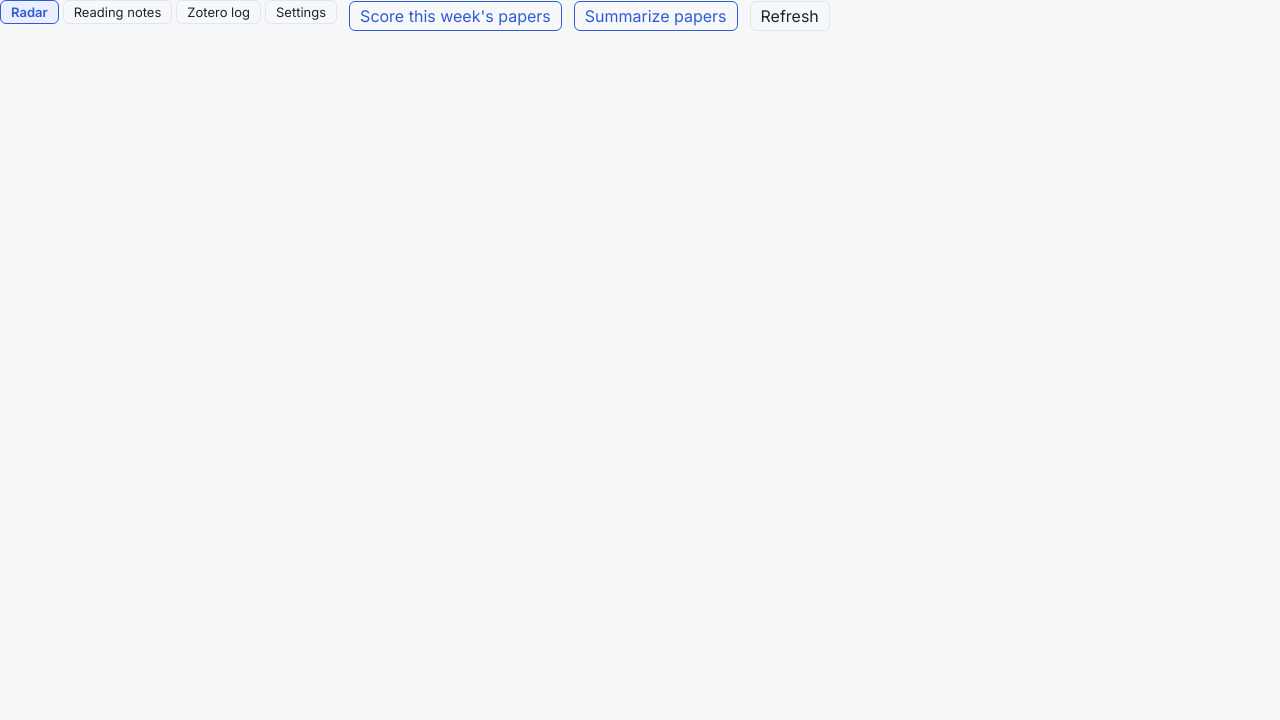
it: Literature settings › adds a keyword group and saves the radar config
This screenshot has width=1280, height=720.
Later steps or results of the test are not shown.
Click the tab "Settings" at (301, 12), box [265,0,337,24]
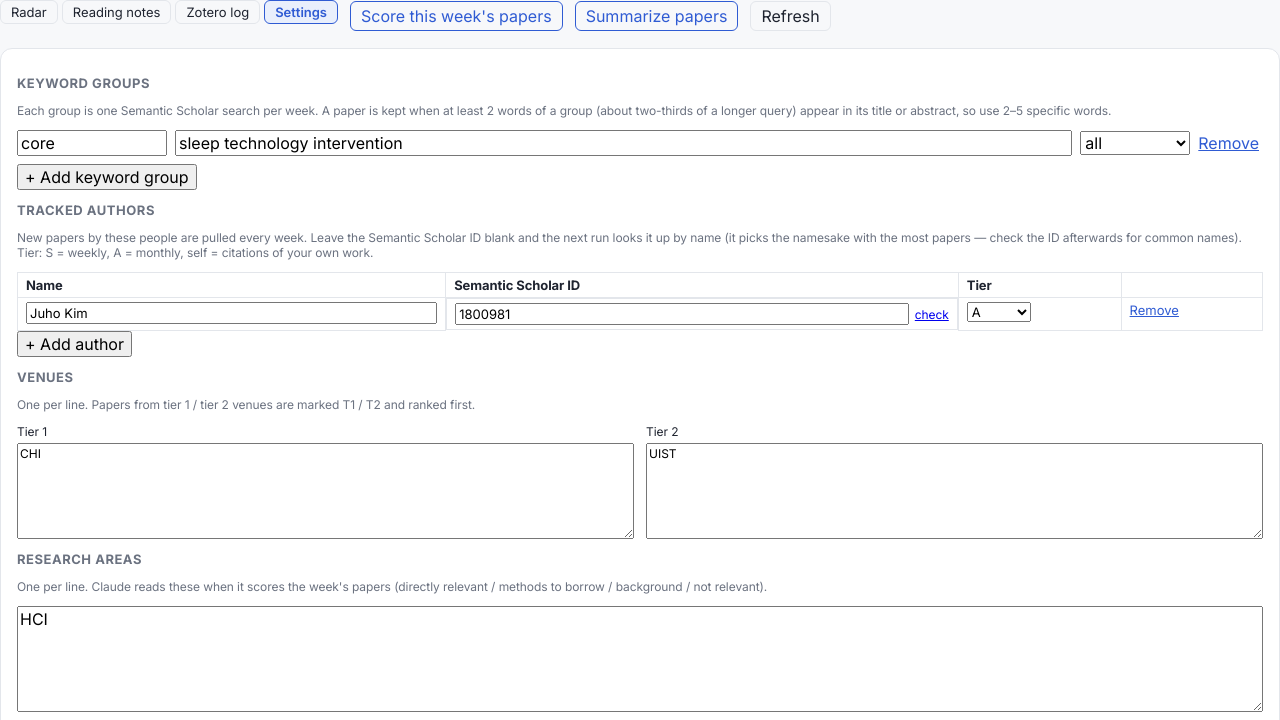
Expected: the field showing "sleep technology intervention" is shown, [175,130,1072,156]
